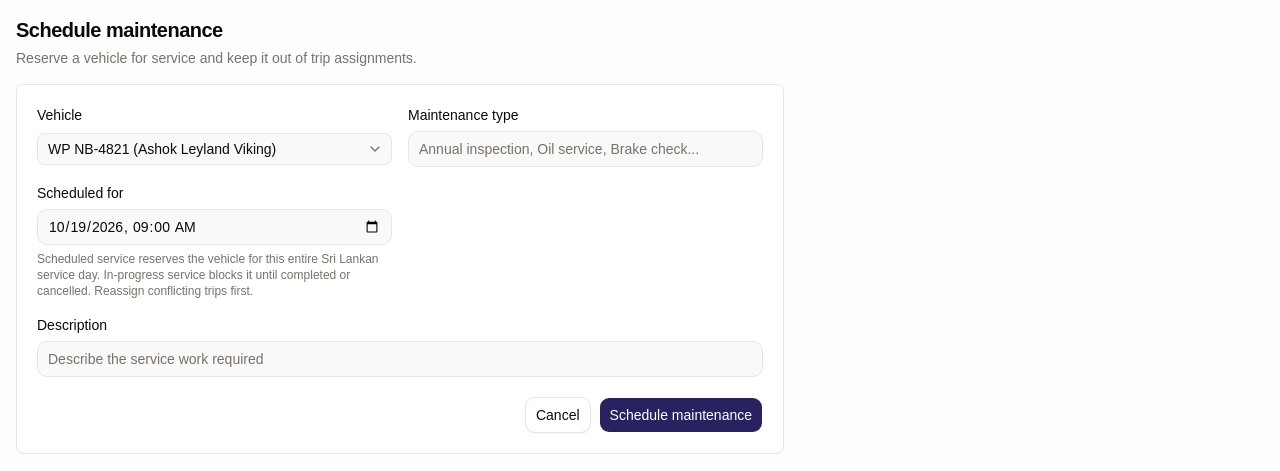
it: MaintenanceFormPage › MaintenanceFormPage sends POST /api/v1/maintenance-records with the selected vehicle, type, description, and ISO timestamp, then navigates to the detail page
In the field labelled "Maintenance type": x=586, y=149 [408,131,763,167], type "Engine oil service"
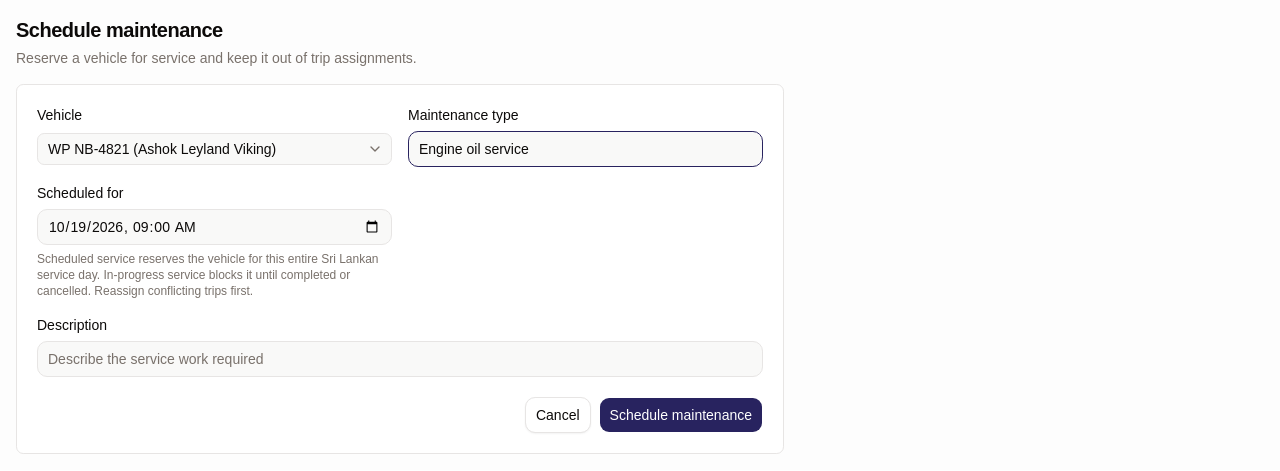
In the field labelled "Description": x=400, y=359 [37,341,763,377], type "Replace engine oil and primary filter"
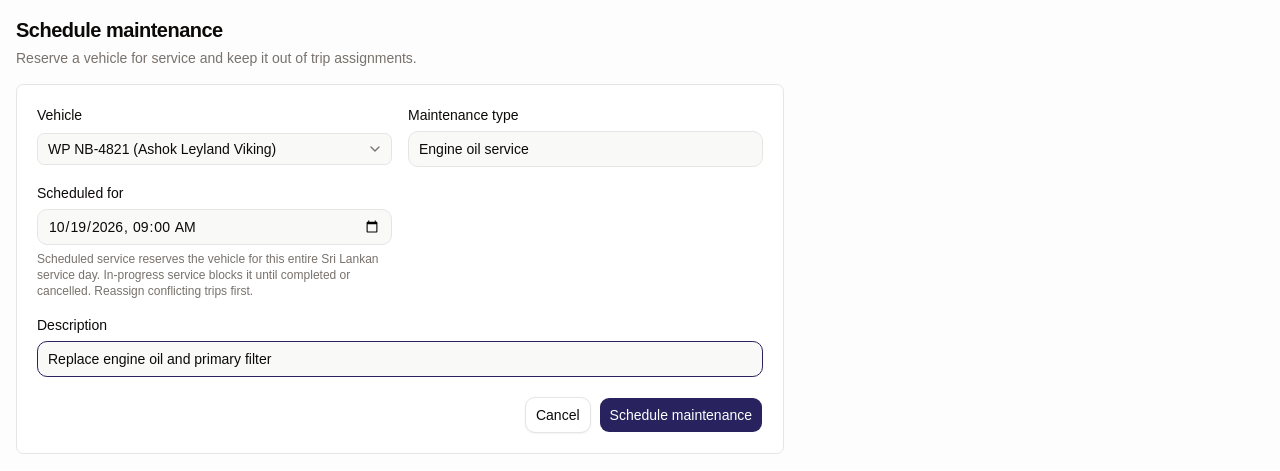
Click the button "Schedule maintenance": x=681, y=415 [599,397,763,433]
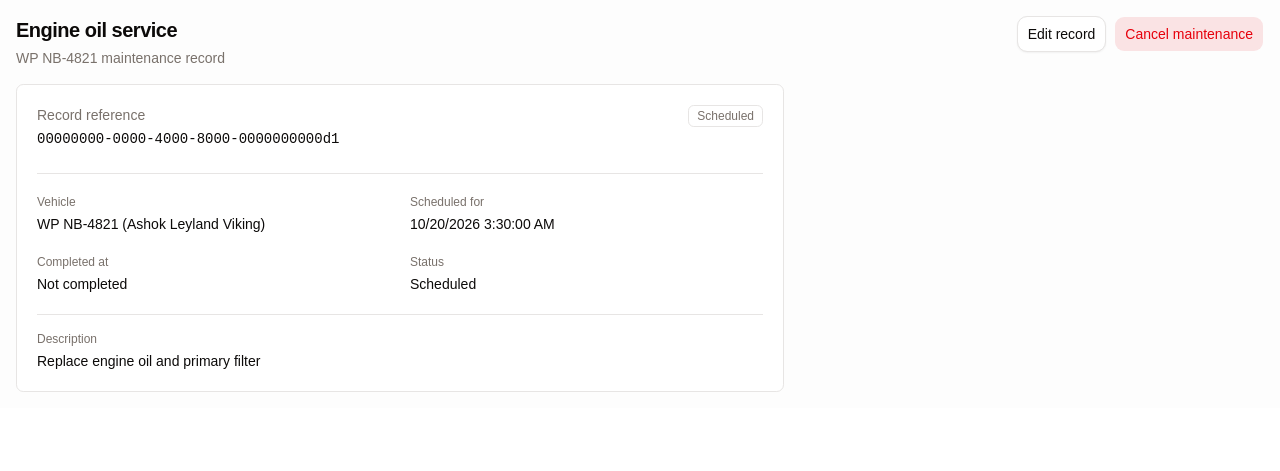
expect the text "Not completed" is shown: met, box [37,276,127,292]
